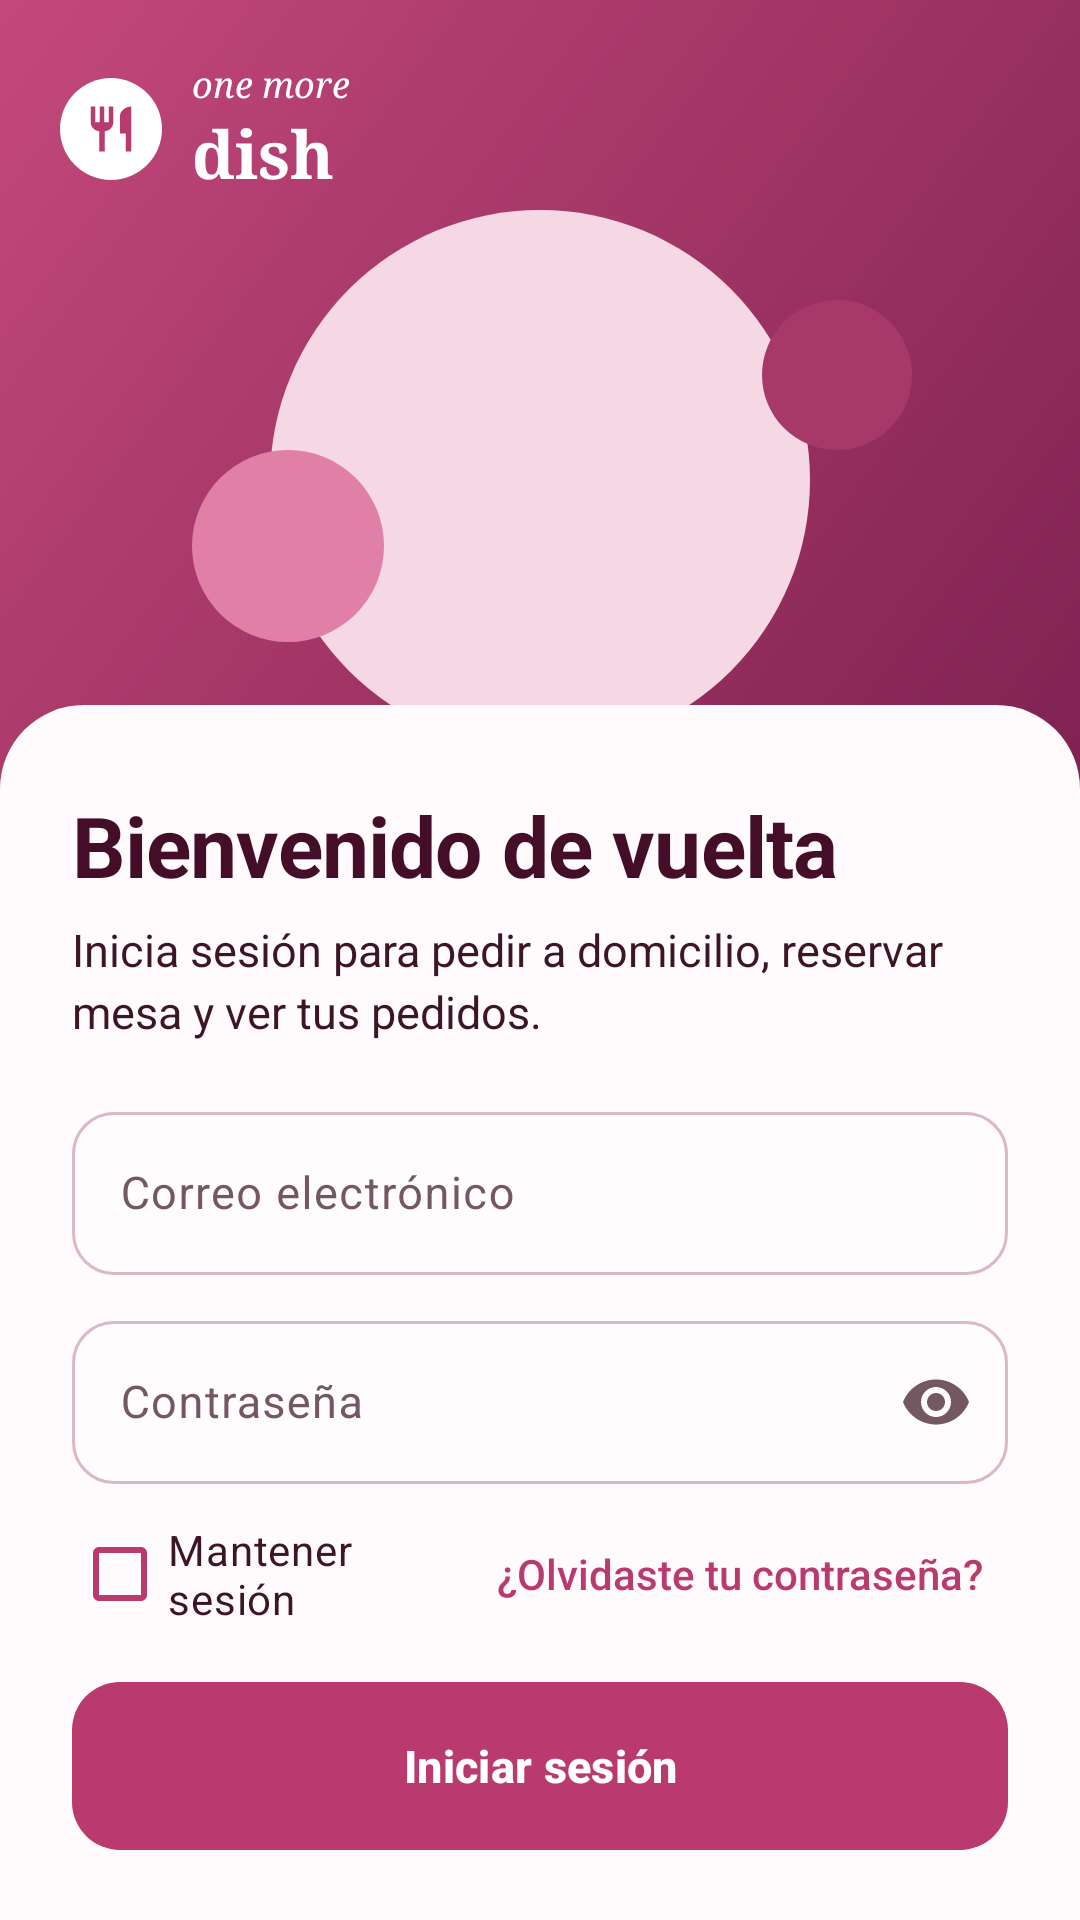

Where icons sit on this 1080px x 1920px app screen, as detection(x1, y1, x2, y2):
cubiertos: detection(90, 106, 132, 152)
